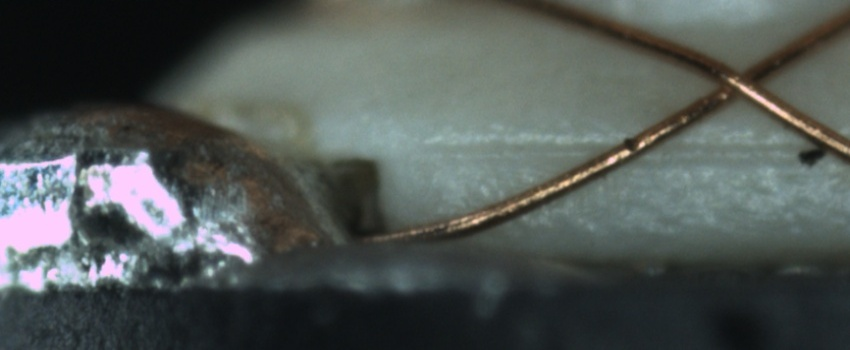CL: (692, 46, 789, 117)
DL: (413, 122, 850, 179)
